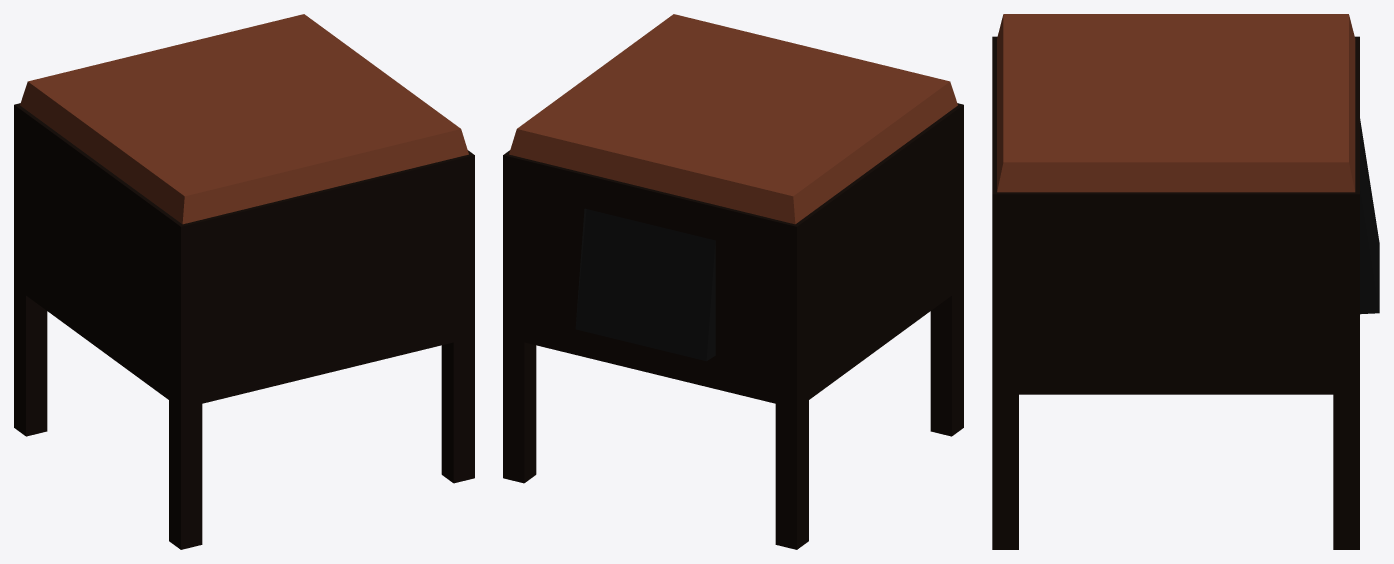
Rendered from busttable_nice_1.FBX.
The picture shows the model from 3 angles, left to right: view 1: azimuth 30°, elevation 25°; view 2: azimuth 150°, elevation 25°; view 3: azimuth 270°, elevation 25°; orthographic projection. The views are drawn at different scales.
Visible parts, largest first — view 1: busttable_nice_1; view 2: busttable_nice_1; view 3: busttable_nice_1.
Boxes of the visible parts, <box> form: busttable_nice_1: <box>14,14,474,549</box>; busttable_nice_1: <box>503,14,963,549</box>; busttable_nice_1: <box>992,14,1379,549</box>.
Bounding box in the file's own units: 30.6 × 31.72 × 34.62.
